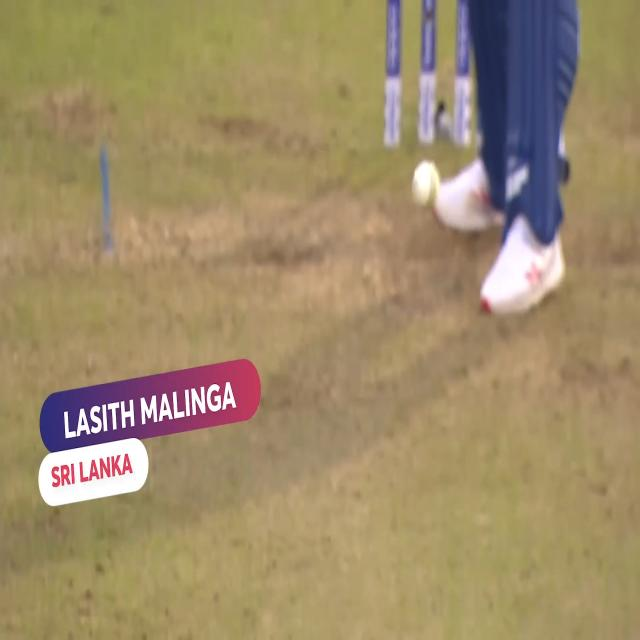ball: (412, 154, 444, 220)
